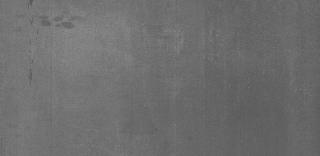water spot: (28, 9, 90, 37)
